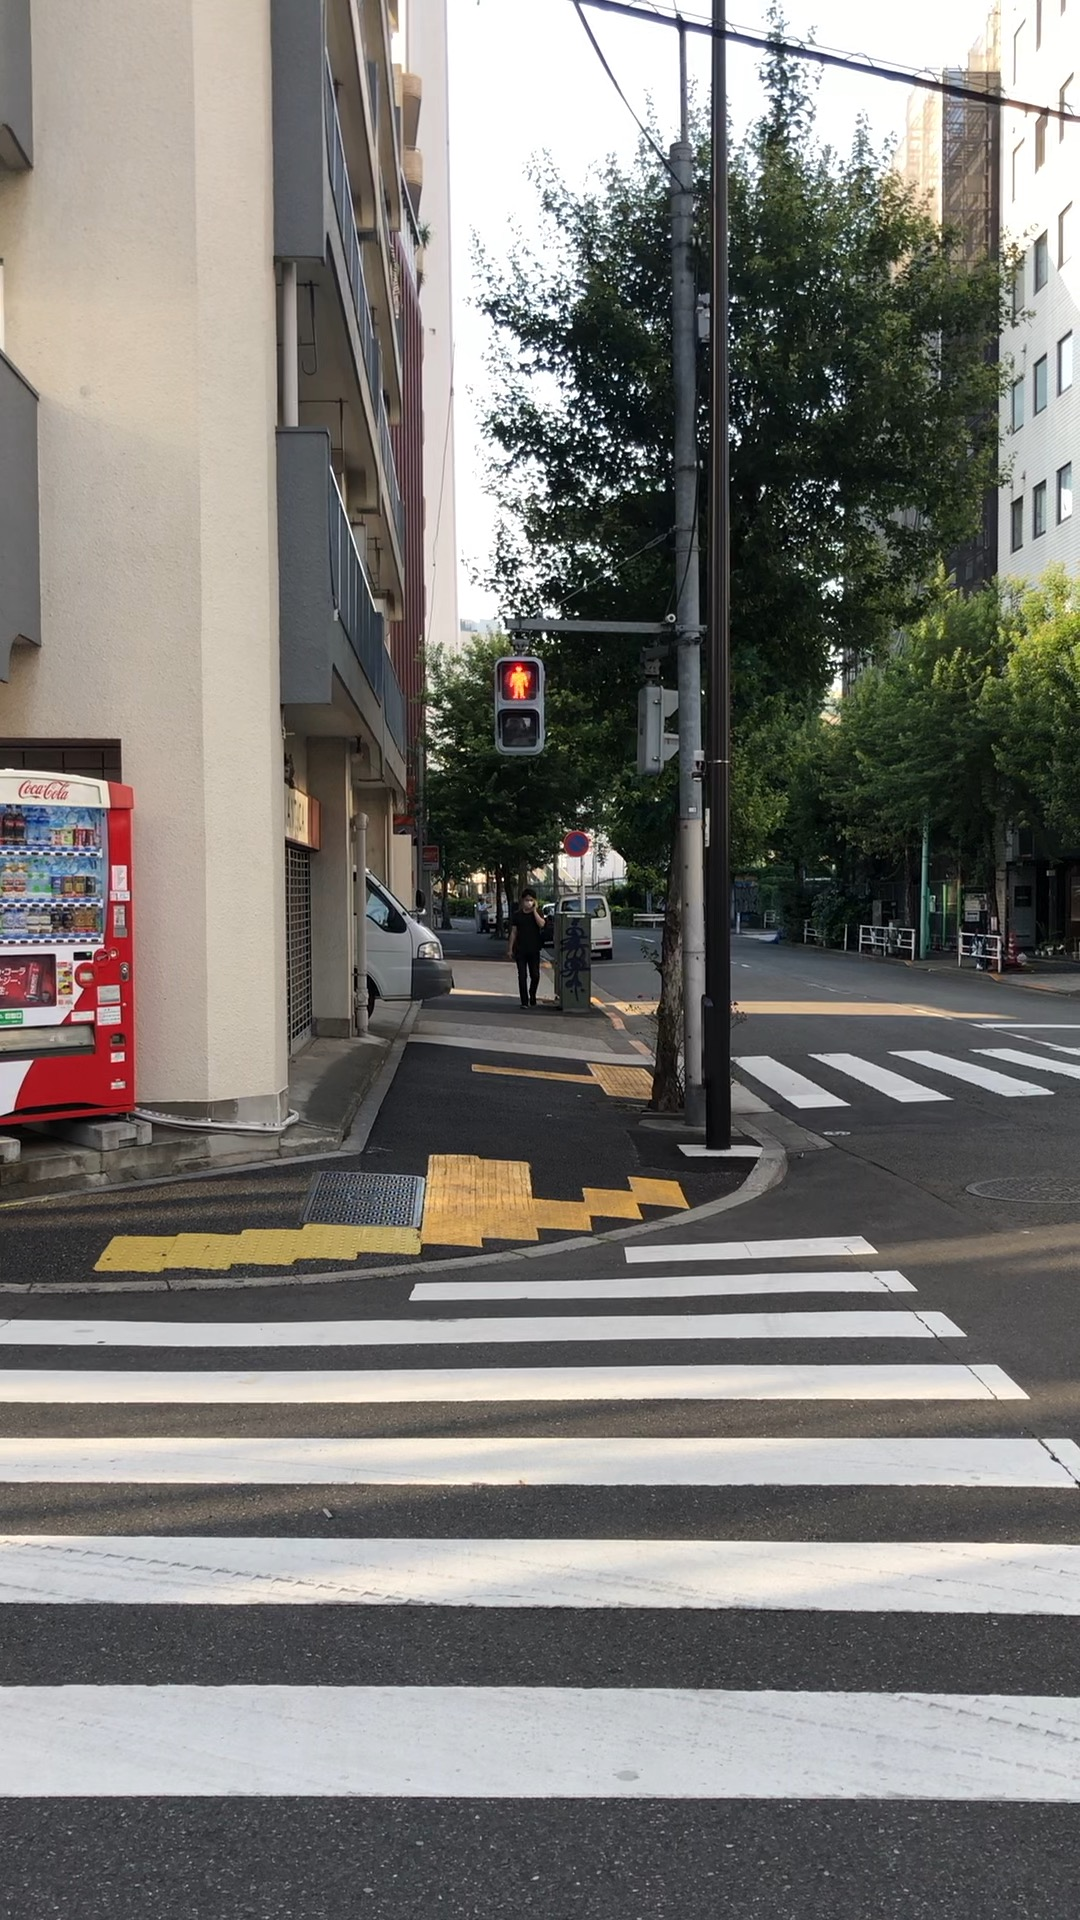red: (493, 657, 546, 756)
